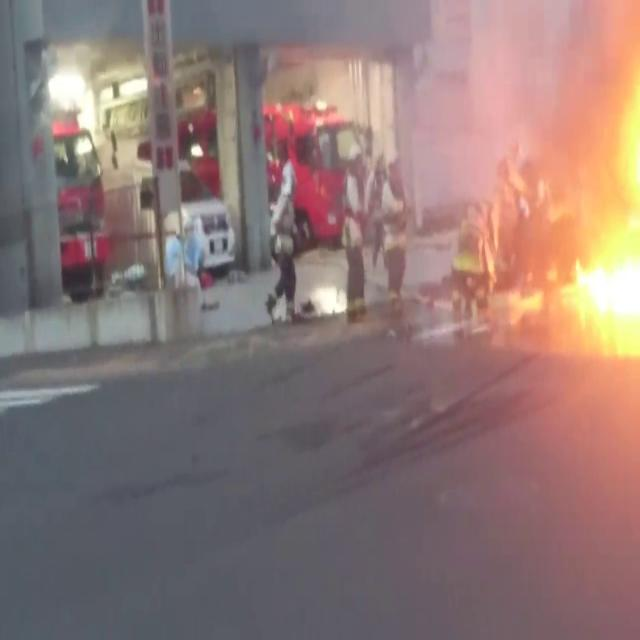smoke: (430, 19, 541, 170)
